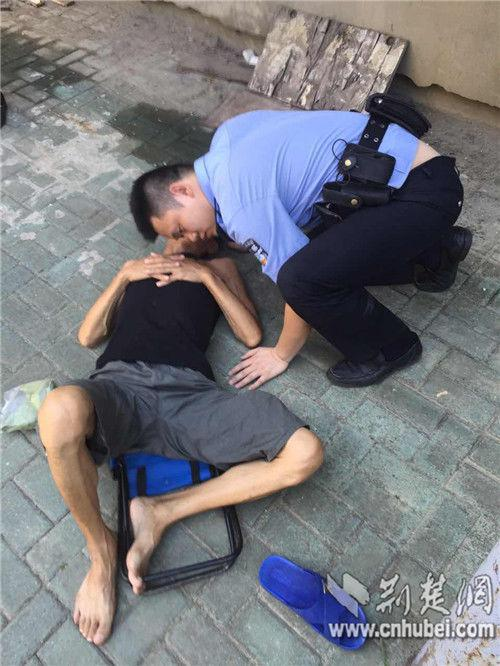down: (39, 223, 328, 643), (137, 99, 489, 385)
